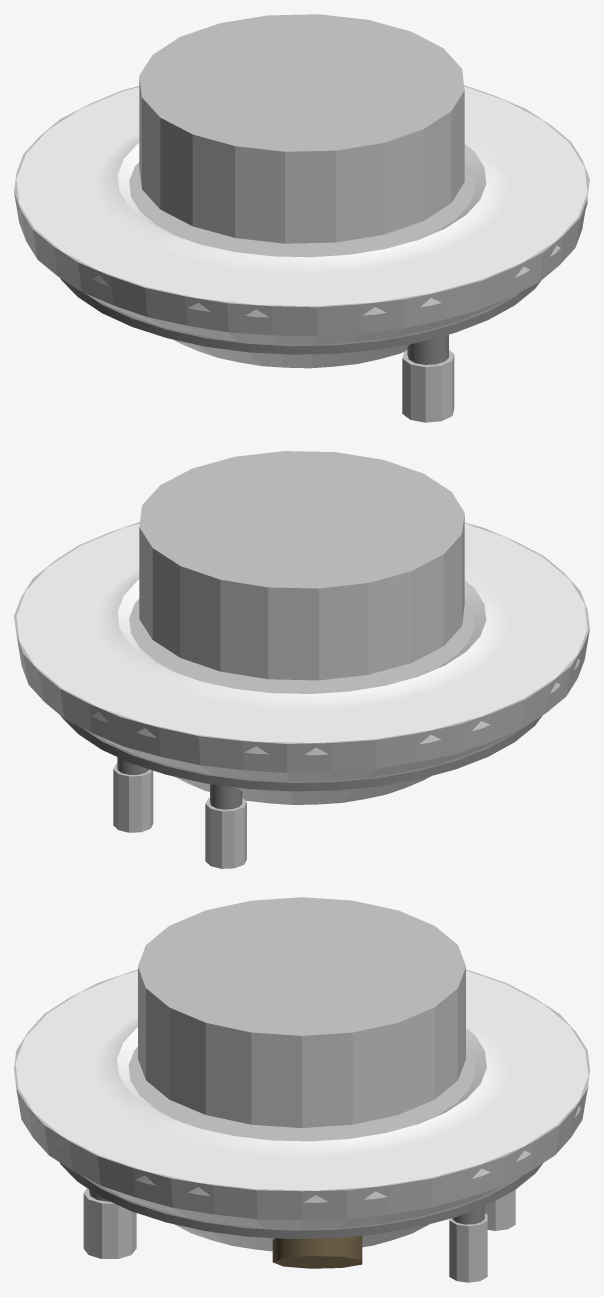
Rendered from SM_H_Government_Tide_WaterPump_02b_ATLAS.fbx.
3 renders of one model, top to bottom at view 1: azimuth 30°, elevation 25°; view 2: azimuth 150°, elevation 25°; view 3: azimuth 270°, elevation 25°, orthographic.
Parts seen in each view (by area): view 1: SM_H_Government_Tide_WaterPump_02b_ATLAS_ConvexHulls, SM_H_Government_Tide_WaterPump_02b_ATLAS; view 2: SM_H_Government_Tide_WaterPump_02b_ATLAS_ConvexHulls, SM_H_Government_Tide_WaterPump_02b_ATLAS; view 3: SM_H_Government_Tide_WaterPump_02b_ATLAS_ConvexHulls, SM_H_Government_Tide_WaterPump_02b_ATLAS.
Part boxes in pixels (<box>): SM_H_Government_Tide_WaterPump_02b_ATLAS_ConvexHulls: <box>14,14,589,422</box>; SM_H_Government_Tide_WaterPump_02b_ATLAS: <box>16,86,587,364</box>; SM_H_Government_Tide_WaterPump_02b_ATLAS_ConvexHulls: <box>14,451,589,868</box>; SM_H_Government_Tide_WaterPump_02b_ATLAS: <box>16,523,587,809</box>; SM_H_Government_Tide_WaterPump_02b_ATLAS_ConvexHulls: <box>14,897,589,1282</box>; SM_H_Government_Tide_WaterPump_02b_ATLAS: <box>15,970,588,1268</box>.
Bounding box in the file's own units: 1686 × 1686 × 862.
